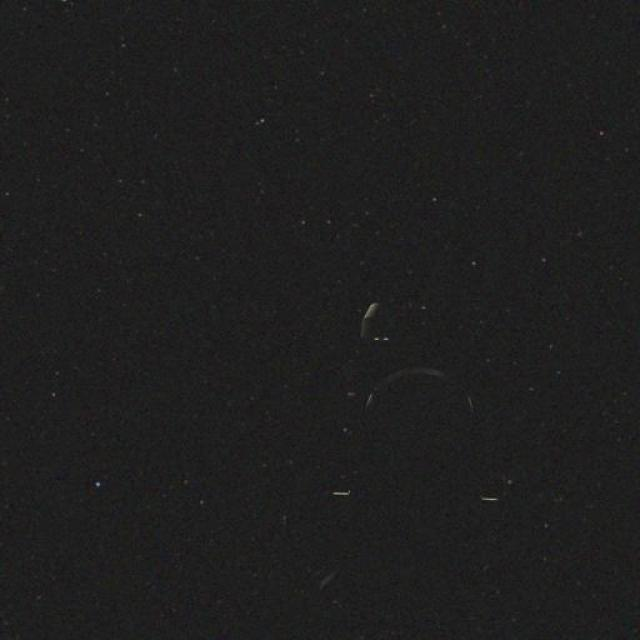proba_3_csc: (295, 292, 555, 537)
